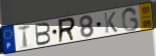8: (79, 15, 95, 39)
B: (34, 22, 52, 47)
G: (120, 6, 140, 32)
K: (102, 11, 119, 34)
R: (57, 16, 77, 45)
T: (17, 23, 32, 49)
